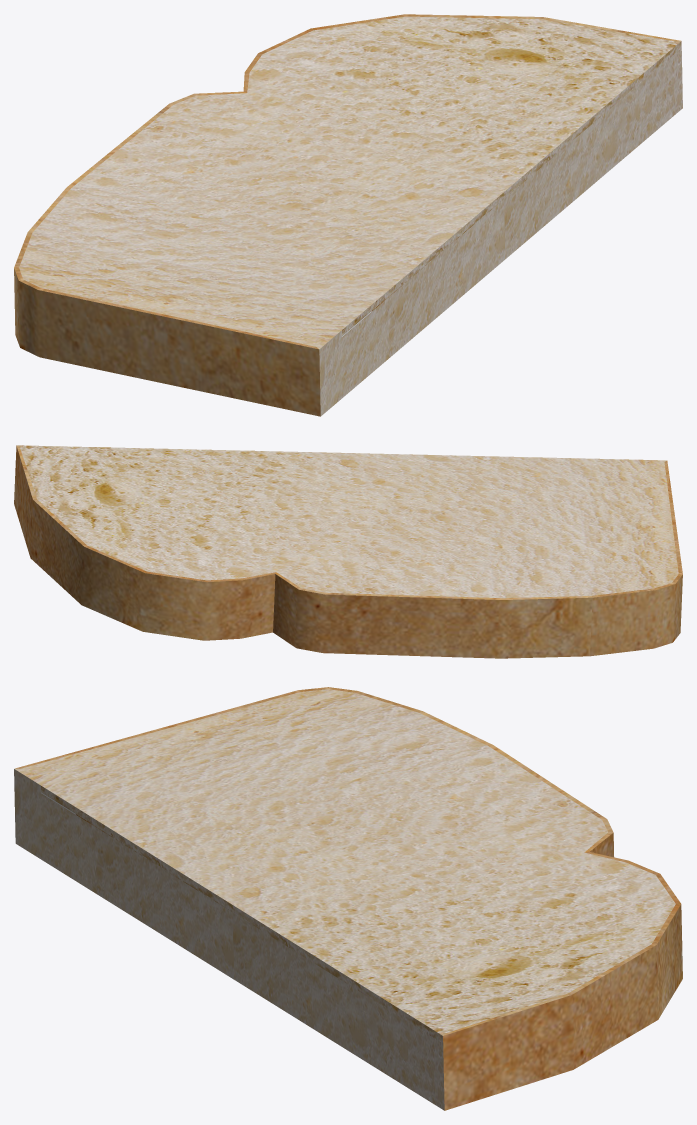
The model's file is bread1.obj.
3 renders of one model, top to bottom at view 1: azimuth 30°, elevation 25°; view 2: azimuth 150°, elevation 25°; view 3: azimuth 270°, elevation 25°, orthographic. The views are drawn at different scales.
Visible parts, largest first — view 1: Bread_Bread_0; view 2: Bread_Bread_0; view 3: Bread_Bread_0.
Boxes of the visible parts, x1,y1,x2,y2 form: Bread_Bread_0: [14, 14, 682, 416]; Bread_Bread_0: [14, 445, 682, 658]; Bread_Bread_0: [14, 687, 682, 1110].
Bounding box in the file's own units: 0.046 × 0.00581 × 0.0344.
